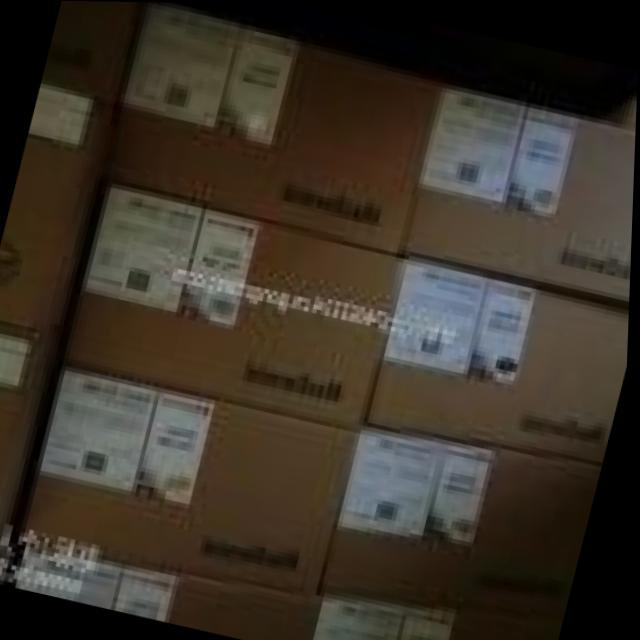box: (62, 183, 406, 428), (102, 2, 440, 248), (20, 362, 354, 594), (325, 428, 599, 623), (370, 257, 631, 456), (402, 91, 636, 300), (15, 549, 320, 640), (0, 83, 102, 341), (0, 328, 53, 584), (315, 594, 561, 640)
